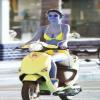motorcycles: (13, 44, 82, 100)
